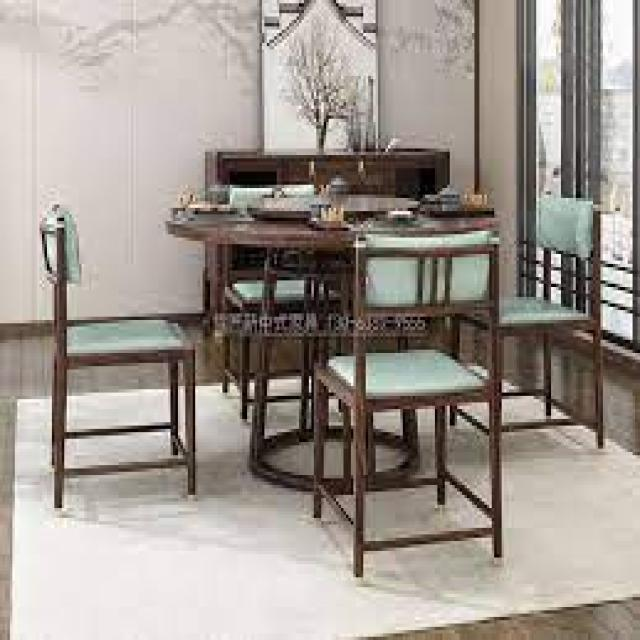table: (35, 158, 618, 584)
